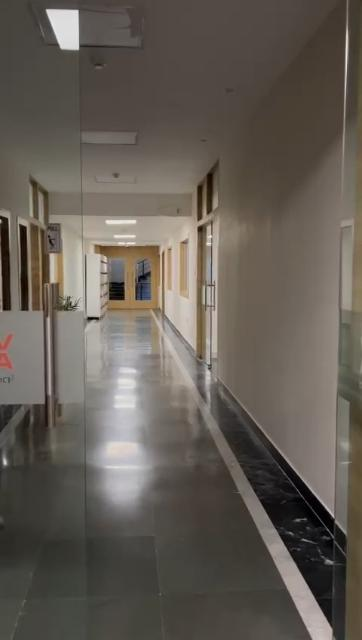door: (191, 173, 213, 361), (105, 245, 161, 313)
floor: (3, 310, 328, 640)
wall: (215, 10, 334, 518)
